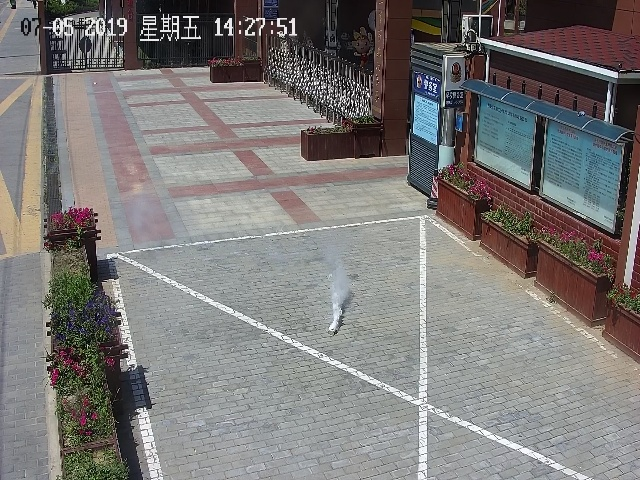yanwu: (321, 246, 353, 331)
